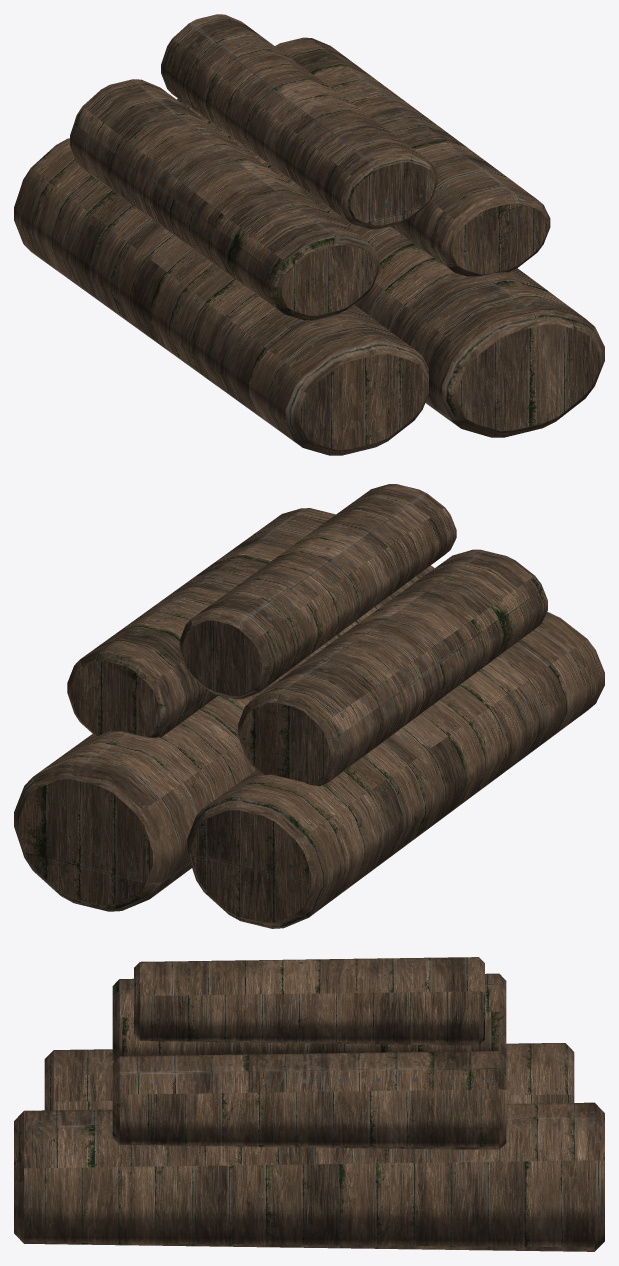
File: Wood.fbx
The picture shows the model from 3 angles, top to bottom: view 1: azimuth 30°, elevation 25°; view 2: azimuth 150°, elevation 25°; view 3: azimuth 270°, elevation 25°; orthographic projection. The views are drawn at different scales.
Visible parts, largest first — view 1: Wood1; view 2: Wood1; view 3: Wood1.
Boxes of the visible parts, <box> form: Wood1: <box>14,14,604,455</box>; Wood1: <box>14,484,604,928</box>; Wood1: <box>14,957,604,1251</box>.
Size of the model in its own units: 1.57 by 1.31 by 2.84.
1 material, 1 textured.
